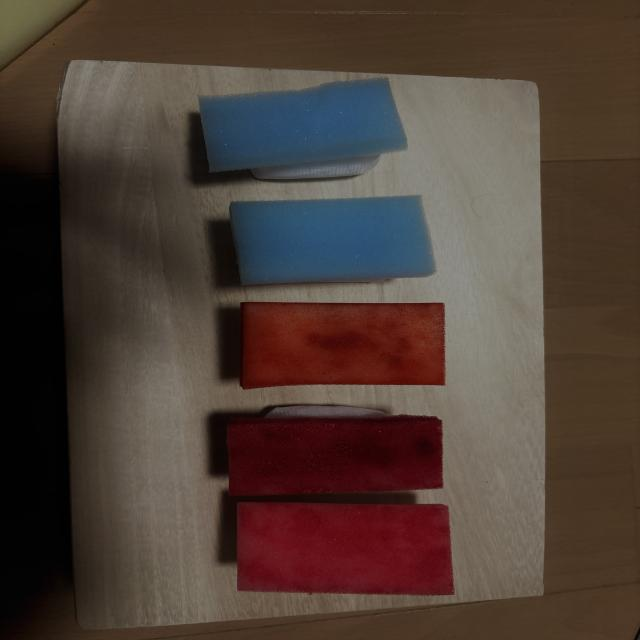NG: (199, 78, 407, 179)
ika: (230, 196, 436, 285)
maguro: (237, 502, 454, 595), (227, 406, 443, 495)
salmon: (240, 302, 446, 389)
